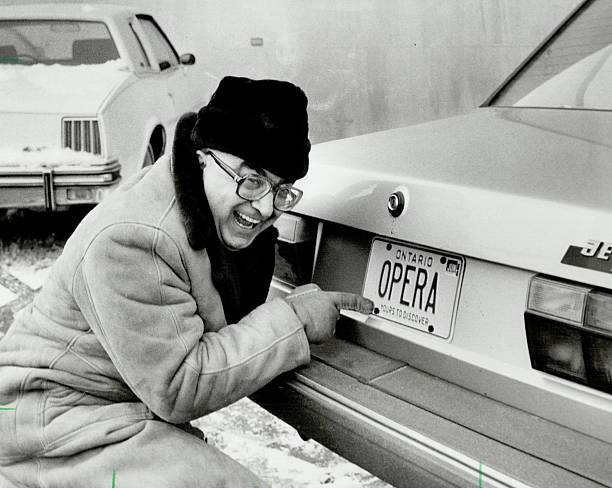licence: (361, 234, 470, 343)
